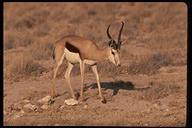antelope: (49, 20, 127, 105)
grass: (123, 50, 185, 77), (8, 58, 43, 81)
